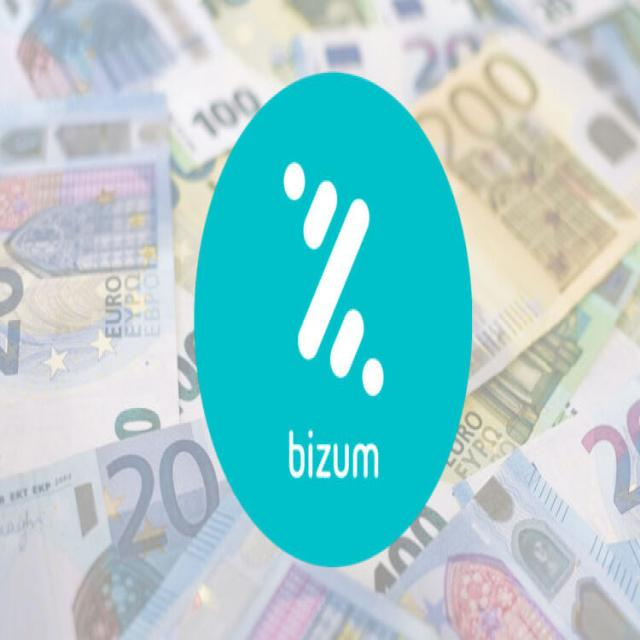bizum: (284, 162, 384, 396)
bizum_txt: (289, 430, 378, 480)
